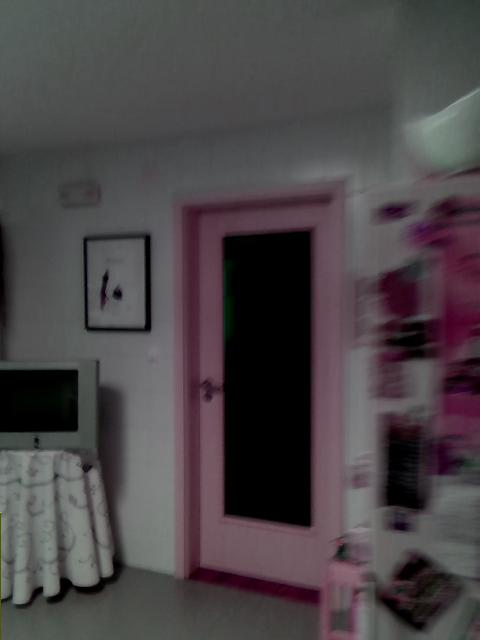closed_door: (177, 181, 348, 592)
